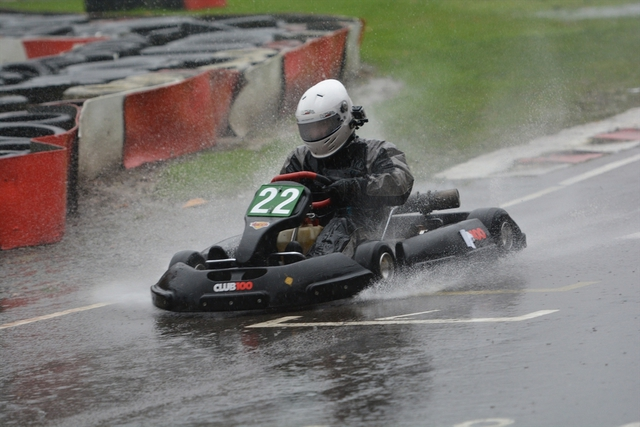helmet: (290, 85, 361, 150)
